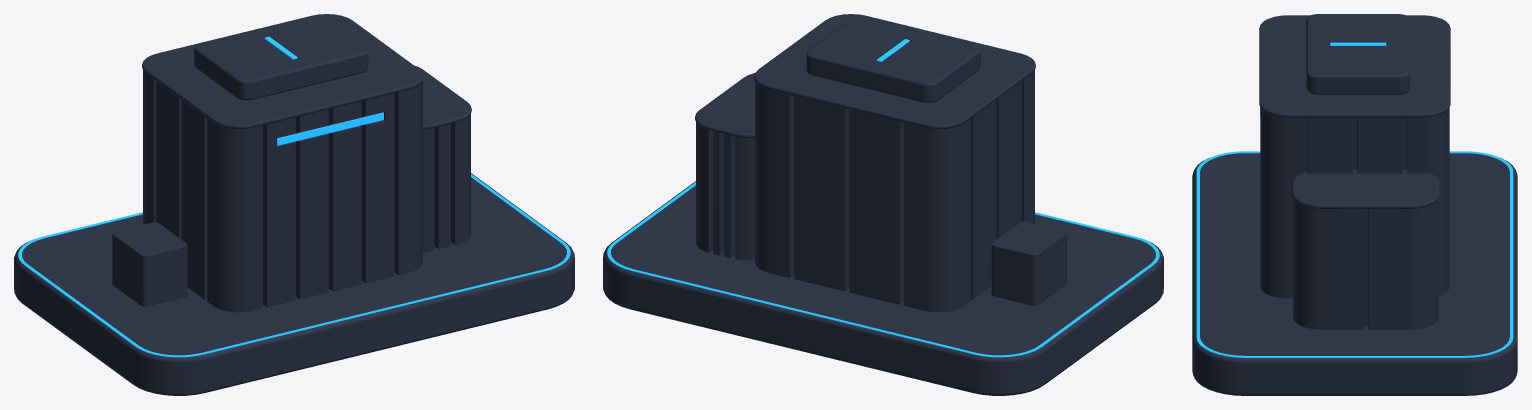
Rendered from pn_ent_sede_mediana.glb.
The picture shows the model from 3 angles, left to right: view 1: azimuth 30°, elevation 25°; view 2: azimuth 150°, elevation 25°; view 3: azimuth 270°, elevation 25°; orthographic projection.
Visible parts, largest first — view 1: sede_mediana; view 2: sede_mediana; view 3: sede_mediana.
Boxes of the visible parts, bbox=[...] form: sede_mediana: bbox=[14, 14, 574, 395]; sede_mediana: bbox=[603, 14, 1163, 395]; sede_mediana: bbox=[1192, 14, 1517, 395].
Bounding box in the file's own units: 1 × 0.5413 × 0.6556.
